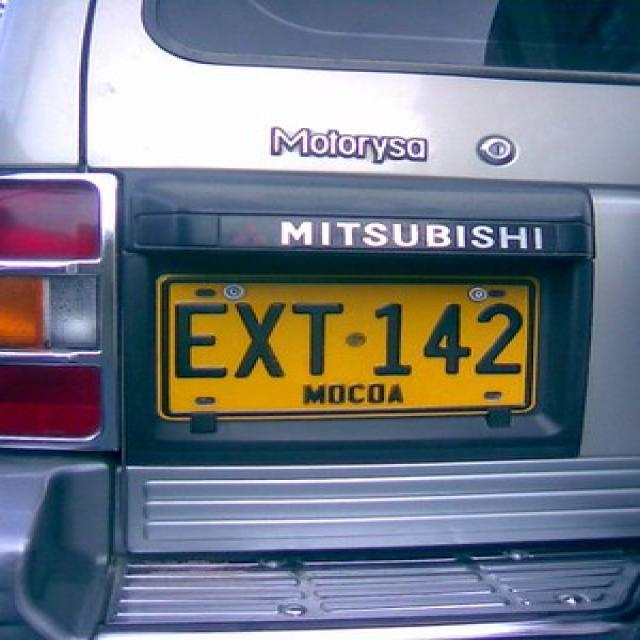placa_carro: (151, 274, 543, 424)
